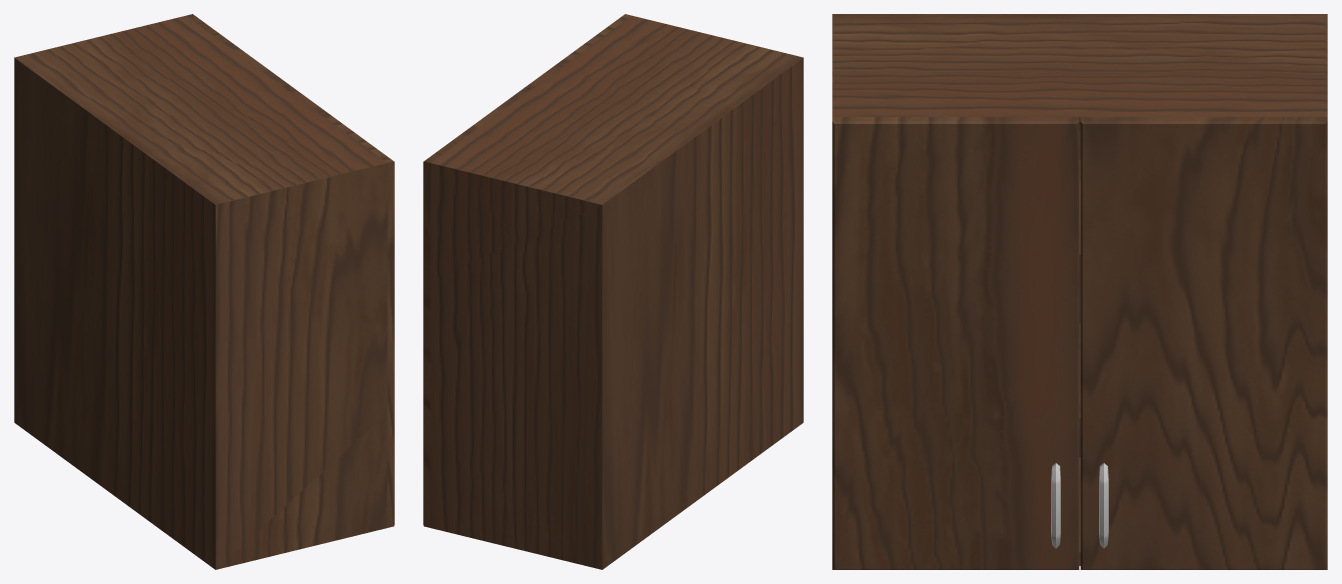
The model's file is Cupboard.glb.
3 views of the same model, side by side, from view 1: azimuth 30°, elevation 25°; view 2: azimuth 150°, elevation 25°; view 3: azimuth 270°, elevation 25° (orthographic). The views are drawn at different scales.
Visible parts, largest first — view 1: KitchenCupboard; view 2: KitchenCupboard; view 3: KitchenCupboard.
Boxes of the visible parts, x1,y1,x2,y2 form: KitchenCupboard: (14, 14, 394, 569); KitchenCupboard: (423, 14, 803, 569); KitchenCupboard: (832, 14, 1327, 569).
Size of the model in its own units: 0.4353 by 0.8 by 0.8.
Materials: 1 (1 with a texture image).
